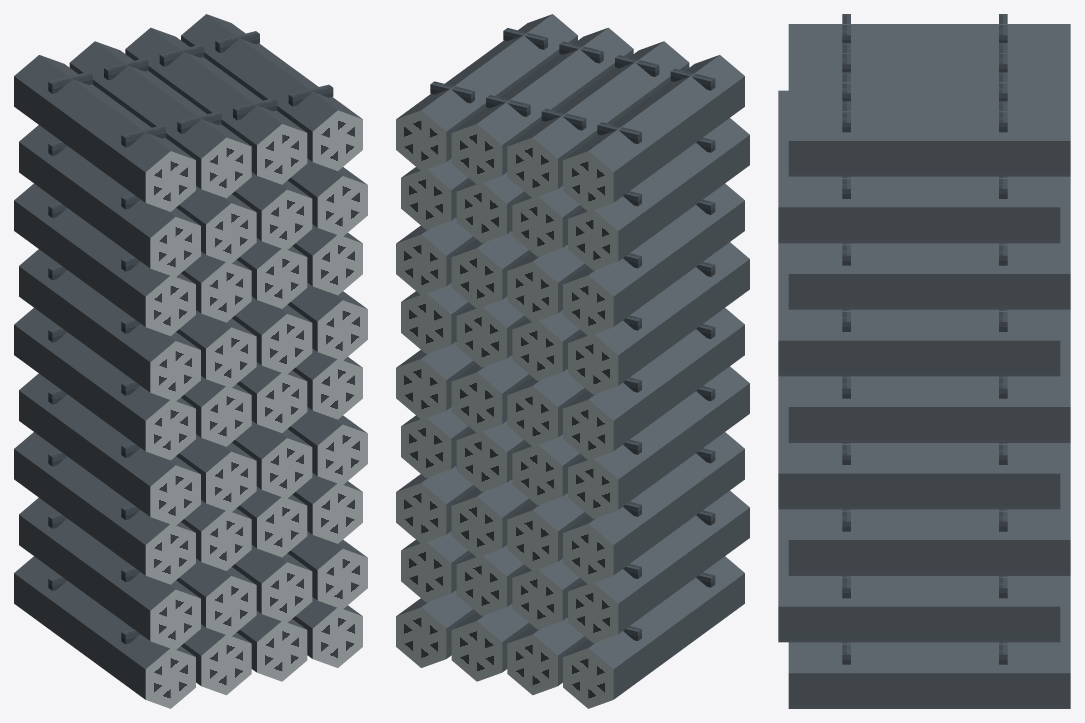
Rendered from f_rebar_stack_tall.glb.
3 views of the same model, side by side, from view 1: azimuth 30°, elevation 25°; view 2: azimuth 150°, elevation 25°; view 3: azimuth 270°, elevation 25° (orthographic). The views are drawn at different scales.
Visible parts, largest first — view 1: block_bundle-8--0.33, block_bundle-1--0.33, block_bundle-5--0.33, block_bundle-3--0.33, block_bundle-7--0.33, block_bundle-4--0.33, block_bundle-6--0.33, block_bundle-2--0.33, block_bundle-0--0.33, block_bundle-8-0.11, block_bundle-8-0.33, block_bundle-8--0.11 (+24 smaller); view 2: block_bundle-8--0.33, block_bundle-2--0.33, block_bundle-0--0.33, block_bundle-6--0.33, block_bundle-4--0.33, block_bundle-1--0.33, block_bundle-5--0.33, block_bundle-7--0.33, block_bundle-3--0.33, block_bundle-8-0.11, block_bundle-8--0.11, block_bundle-8-0.33 (+24 smaller); view 3: block_bundle-6-0.33, block_bundle-8-0.33, block_bundle-0-0.33, block_bundle-2-0.33, block_bundle-4-0.33, block_bundle-1-0.33, block_bundle-3-0.33, block_bundle-5-0.33, block_bundle-7-0.33, block_bundle-8-0.11, block_bundle-8--0.33, block_bundle-8--0.11 (+8 smaller).
Boxes of the visible parts, x1,y1,x2,y2 form: block_bundle-8--0.33: [14, 55, 195, 211]; block_bundle-1--0.33: [19, 498, 200, 650]; block_bundle-5--0.33: [19, 249, 200, 401]; block_bundle-3--0.33: [19, 373, 200, 525]; block_bundle-7--0.33: [19, 125, 200, 277]; block_bundle-4--0.33: [14, 308, 195, 460]; block_bundle-6--0.33: [14, 183, 195, 335]; block_bundle-2--0.33: [14, 432, 195, 584]; block_bundle-0--0.33: [14, 556, 195, 708]; block_bundle-8-0.11: [125, 27, 307, 184]; block_bundle-8-0.33: [181, 14, 362, 170]; block_bundle-8--0.11: [69, 41, 251, 198]; block_bundle-8--0.33: [563, 55, 744, 211]; block_bundle-2--0.33: [563, 432, 744, 584]; block_bundle-0--0.33: [563, 556, 744, 708]; block_bundle-6--0.33: [563, 183, 744, 335]; block_bundle-4--0.33: [563, 308, 744, 460]; block_bundle-1--0.33: [568, 490, 749, 643]; block_bundle-5--0.33: [568, 242, 749, 394]; block_bundle-7--0.33: [568, 118, 749, 270]; block_bundle-3--0.33: [568, 366, 749, 518]; block_bundle-8-0.11: [451, 27, 633, 184]; block_bundle-8--0.11: [507, 41, 689, 198]; block_bundle-8-0.33: [396, 14, 577, 170]; block_bundle-6-0.33: [788, 244, 1070, 309]; block_bundle-8-0.33: [788, 111, 1070, 176]; block_bundle-0-0.33: [788, 643, 1070, 708]; block_bundle-2-0.33: [788, 510, 1070, 575]; block_bundle-4-0.33: [788, 377, 1070, 442]; block_bundle-1-0.33: [778, 577, 1060, 642]; block_bundle-3-0.33: [778, 444, 1060, 509]; block_bundle-5-0.33: [778, 311, 1060, 376]; block_bundle-7-0.33: [778, 178, 1060, 243]; block_bundle-8-0.11: [788, 82, 1070, 111]; block_bundle-8--0.33: [788, 24, 1070, 53]; block_bundle-8--0.11: [788, 53, 1070, 82].
Size of the model in its own units: 0.8592 by 2.11 by 0.933.
1 material, 1 textured.
